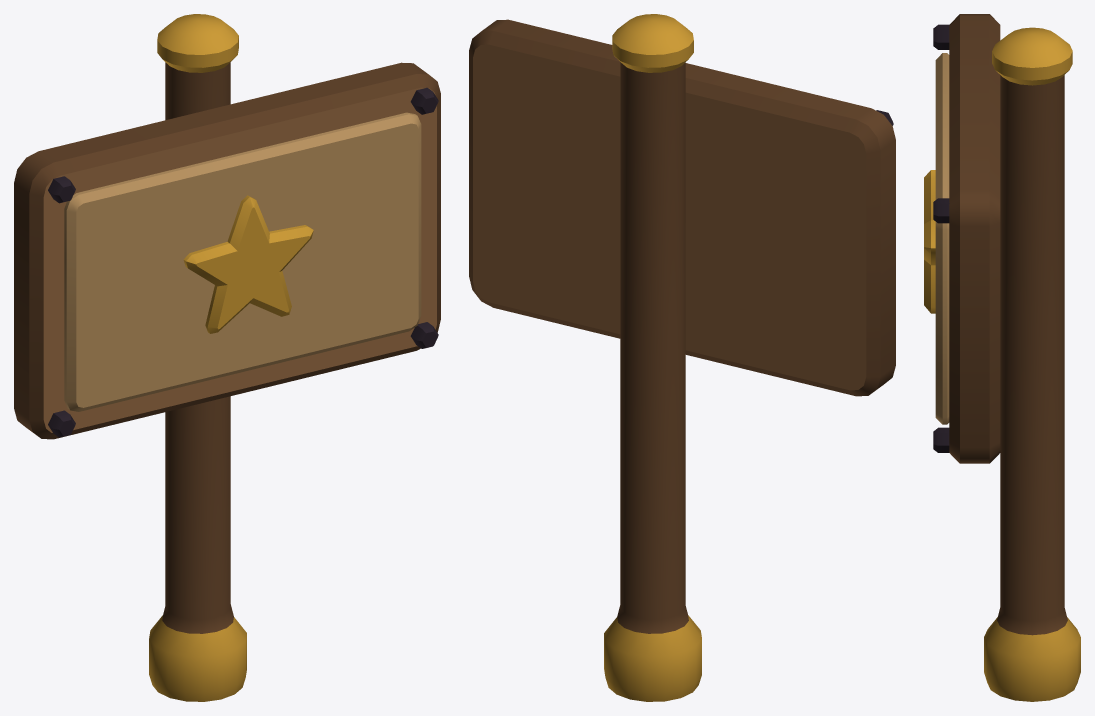
File: Sign_02.glb
The picture shows the model from 3 angles, left to right: view 1: azimuth 30°, elevation 25°; view 2: azimuth 150°, elevation 25°; view 3: azimuth 270°, elevation 25°; orthographic projection. The views are drawn at different scales.
Parts seen in each view (by area): view 1: Sign_02; view 2: Sign_02; view 3: Sign_02.
Part boxes in pixels (bbox=[...]): Sign_02: bbox=[14, 14, 440, 701]; Sign_02: bbox=[469, 14, 895, 701]; Sign_02: bbox=[924, 14, 1080, 701].
Bounding box in the file's own units: 2.02 × 3.11 × 0.68.
